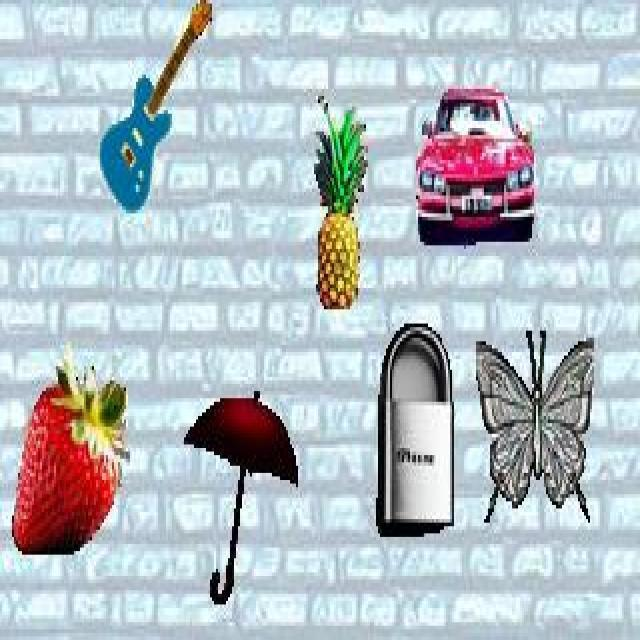Other Objects: (478, 328, 594, 526), (376, 321, 454, 538)
